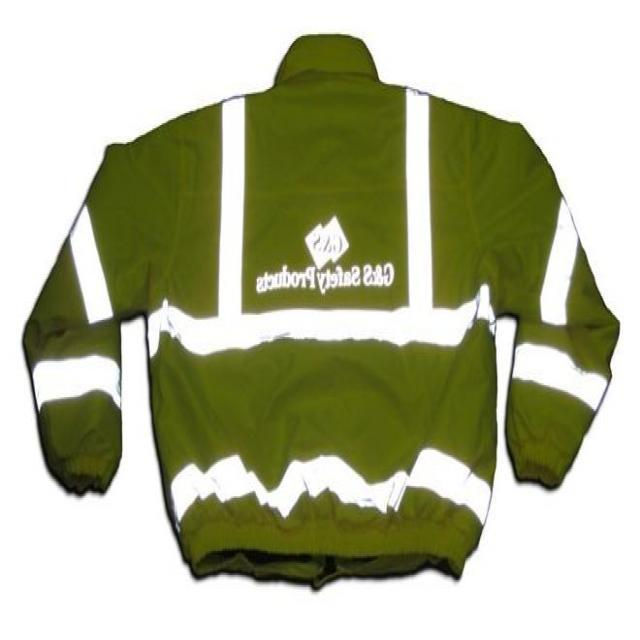reflective_jacket: (21, 35, 632, 587)
